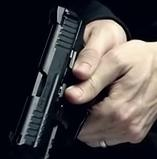gun: (1, 1, 157, 159)
